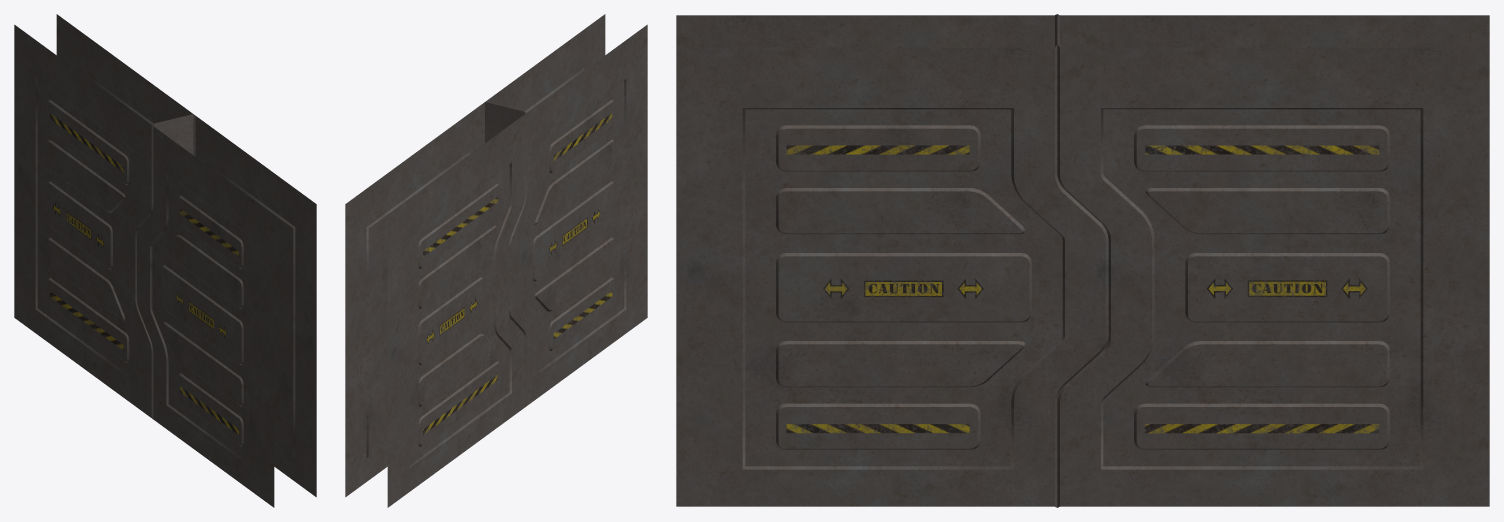
Rendered from Blast_Doors.fbx.
The picture shows the model from 3 angles, left to right: view 1: azimuth 30°, elevation 25°; view 2: azimuth 150°, elevation 25°; view 3: azimuth 270°, elevation 25°; orthographic projection. The views are drawn at different scales.
Visible parts, largest first — view 1: right_door2, left_door1; view 2: left_door1, right_door2; view 3: left_door1, right_door2.
Boxes of the visible parts, x1=… form: right_door2: x1=137, y1=116, x2=316, y2=507; left_door1: x1=14, y1=14, x2=195, y2=418; left_door1: x1=345, y1=102, x2=526, y2=507; right_door2: x1=485, y1=14, x2=647, y2=405; left_door1: x1=1055, y1=14, x2=1489, y2=507; right_door2: x1=676, y1=15, x2=1105, y2=506.
Size of the model in its own units: 1.57 by 10.46 by 16.64.
2 materials, 2 textured.
